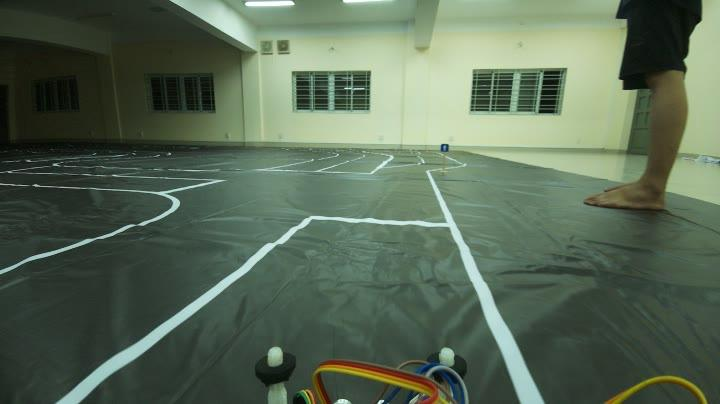onewayroad: (437, 142, 453, 156)
